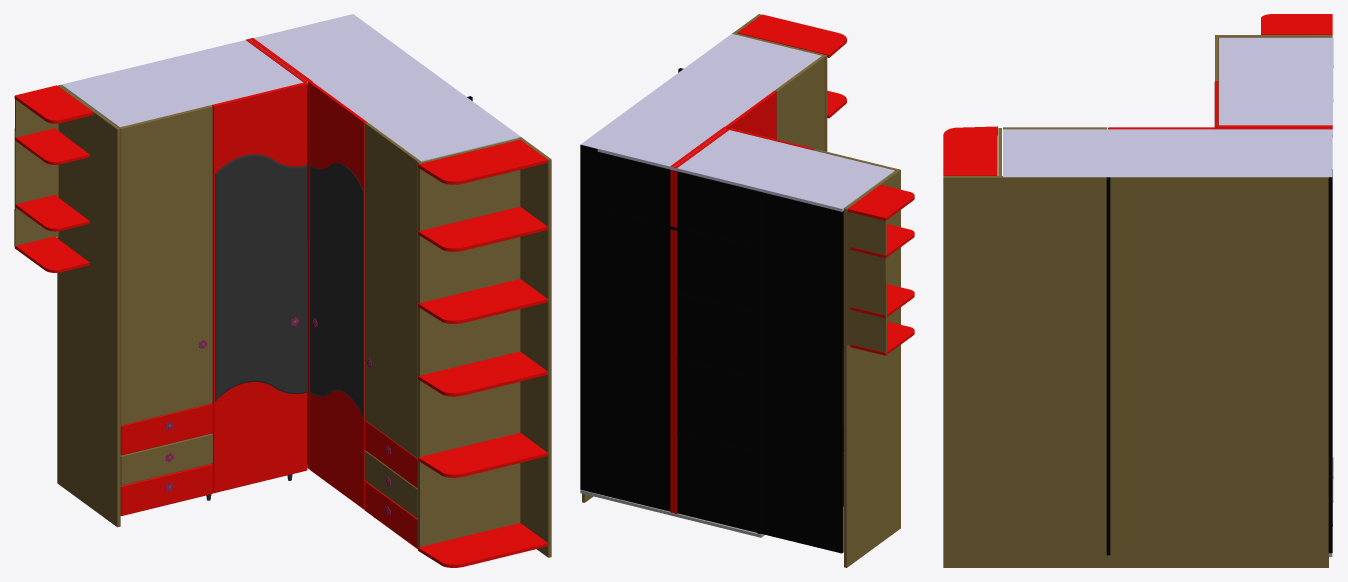
Rendered from Wardrobe 2.FBX.
The picture shows the model from 3 angles, left to right: view 1: azimuth 30°, elevation 25°; view 2: azimuth 150°, elevation 25°; view 3: azimuth 270°, elevation 25°; orthographic projection. The views are drawn at different scales.
Visible parts, largest first — view 1: Box1781, Line009, Box035, Box034, Line017, Box033, Box028, Line018, Box051, Box029, Line16566, Line013 (+16 smaller); view 2: Box050, Line009, Box034, Line16566, Box033, Line010, Box037, Box036, Line16563, Box040, Box029, Line008 (+5 smaller); view 3: Box051, Line009, Line010, Box049, Box050, Box035, Line16563.
Boxes of the visible parts, bbox=[...] form: Box1781: bbox=[119, 105, 212, 425]; Line009: bbox=[61, 14, 520, 161]; Box035: bbox=[418, 138, 520, 547]; Box034: bbox=[57, 84, 120, 527]; Line017: bbox=[215, 154, 307, 401]; Box033: bbox=[364, 122, 420, 458]; Box028: bbox=[212, 82, 307, 493]; Line018: bbox=[310, 163, 363, 417]; Box051: bbox=[518, 137, 551, 557]; Box029: bbox=[310, 82, 366, 509]; Line16566: bbox=[14, 99, 58, 247]; Line013: bbox=[418, 351, 547, 396]; Box050: bbox=[580, 145, 843, 553]; Line009: bbox=[580, 34, 894, 211]; Box034: bbox=[844, 169, 900, 567]; Line16566: bbox=[843, 210, 886, 353]; Box033: bbox=[774, 55, 824, 150]; Line010: bbox=[737, 14, 846, 57]; Box037: bbox=[670, 126, 727, 512]; Box036: bbox=[674, 129, 729, 513]; Line16563: bbox=[847, 184, 914, 220]; Box040: bbox=[757, 191, 760, 534]; Box029: bbox=[725, 91, 776, 139]; Line008: bbox=[580, 490, 764, 537]; Box051: bbox=[943, 176, 1328, 567]; Line009: bbox=[1003, 37, 1333, 177]; Line010: bbox=[943, 126, 997, 175]; Box049: bbox=[1106, 177, 1110, 555]; Box050: bbox=[1328, 169, 1332, 553]; Box035: bbox=[998, 128, 1001, 556]; Line16563: bbox=[1261, 14, 1332, 34].
Bounding box in the file's own units: 2012 × 2234 × 2018.
